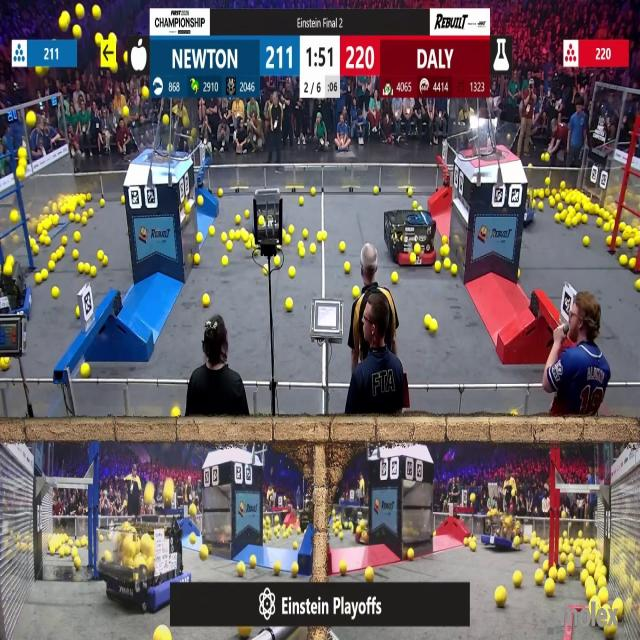ball_airborne: (165, 481, 175, 503), (144, 484, 154, 504), (60, 11, 70, 29), (28, 111, 36, 127), (10, 209, 18, 223), (15, 167, 24, 179), (72, 26, 80, 39), (76, 4, 84, 17), (94, 5, 102, 18), (109, 62, 117, 73), (18, 147, 26, 158), (142, 89, 149, 100), (96, 34, 103, 45), (161, 116, 167, 128), (182, 116, 189, 126), (121, 107, 128, 117), (122, 53, 128, 64), (17, 160, 25, 168), (6, 255, 13, 264), (168, 144, 174, 154), (469, 493, 475, 502), (190, 129, 195, 139)
ball_ground: (495, 587, 506, 608), (157, 626, 171, 640), (604, 625, 616, 640), (544, 581, 554, 598), (514, 570, 523, 586), (534, 570, 544, 584), (598, 590, 608, 604), (80, 362, 89, 377), (0, 357, 9, 370), (364, 567, 372, 581), (340, 560, 348, 574), (238, 562, 246, 576), (201, 546, 209, 560), (587, 586, 595, 600), (558, 569, 566, 582), (629, 257, 637, 269), (514, 536, 522, 548), (566, 563, 574, 575), (203, 293, 210, 306), (188, 504, 196, 515), (91, 266, 98, 278), (621, 254, 628, 266), (292, 562, 298, 576), (579, 570, 586, 582), (172, 409, 180, 419), (442, 246, 450, 256), (598, 576, 606, 586), (574, 213, 582, 223), (286, 299, 292, 312), (275, 561, 281, 574), (434, 263, 441, 274), (250, 556, 257, 567), (51, 287, 58, 298), (74, 558, 81, 569), (430, 320, 436, 332), (546, 568, 554, 577), (411, 253, 417, 265), (561, 214, 569, 223), (288, 268, 295, 278), (628, 239, 635, 249), (77, 265, 84, 275), (58, 248, 65, 258), (198, 197, 205, 207), (392, 273, 398, 284), (275, 255, 281, 266), (408, 550, 414, 561), (36, 274, 42, 285), (353, 286, 359, 297), (424, 316, 430, 327), (445, 260, 451, 271), (72, 548, 78, 559), (106, 552, 112, 563), (531, 188, 539, 196), (563, 543, 570, 552), (345, 264, 351, 274), (193, 254, 199, 264), (584, 238, 590, 248), (226, 241, 232, 251), (74, 233, 80, 243), (42, 270, 48, 280), (452, 266, 458, 276), (221, 256, 227, 266), (195, 234, 201, 244), (98, 250, 104, 260), (284, 235, 290, 245), (550, 199, 556, 209), (69, 212, 75, 222), (534, 552, 540, 562), (542, 560, 548, 570), (65, 545, 71, 555), (60, 548, 66, 558), (73, 249, 78, 260), (341, 242, 346, 253), (48, 263, 54, 272), (298, 248, 304, 257), (617, 238, 623, 247), (236, 232, 242, 241), (209, 226, 215, 235), (62, 237, 68, 246), (288, 224, 294, 233), (604, 221, 610, 230), (189, 533, 195, 542), (583, 214, 589, 223), (44, 237, 50, 246), (561, 554, 567, 563), (596, 217, 602, 226), (538, 188, 544, 197), (558, 203, 564, 212), (81, 537, 87, 546), (541, 544, 547, 553), (531, 538, 537, 547), (304, 230, 309, 240), (311, 244, 316, 254), (606, 237, 611, 247), (84, 265, 89, 275), (253, 249, 260, 256), (236, 215, 242, 223), (100, 200, 106, 208), (220, 234, 226, 242), (413, 202, 419, 210), (244, 210, 250, 218), (374, 186, 380, 194), (36, 66, 42, 74), (524, 535, 530, 543), (79, 200, 85, 208), (568, 554, 574, 562), (103, 256, 108, 265), (470, 541, 475, 550), (571, 217, 576, 226), (340, 534, 345, 543), (31, 239, 36, 248), (249, 233, 254, 242), (636, 280, 640, 291), (297, 241, 303, 248), (76, 308, 80, 318), (298, 198, 303, 206), (322, 232, 326, 242), (218, 188, 223, 196), (556, 214, 561, 222), (538, 203, 543, 211), (243, 238, 248, 246), (90, 209, 95, 217), (75, 214, 80, 222), (463, 537, 468, 545), (544, 177, 549, 185), (228, 230, 233, 238), (311, 187, 316, 195), (556, 193, 561, 201), (88, 192, 93, 200), (517, 272, 522, 280), (50, 252, 55, 260), (34, 246, 38, 255), (532, 201, 536, 210), (292, 542, 298, 548), (408, 188, 413, 195), (444, 237, 449, 244), (621, 222, 626, 229), (265, 538, 270, 545), (82, 216, 86, 224), (561, 181, 565, 188), (296, 528, 300, 534), (100, 535, 104, 541), (120, 198, 123, 205)
goal: (464, 122, 521, 160), (130, 129, 188, 161)
robot_blue: (101, 518, 192, 613), (0, 261, 31, 318), (481, 512, 521, 550)
robot_red: (386, 210, 439, 268), (251, 191, 286, 245)
